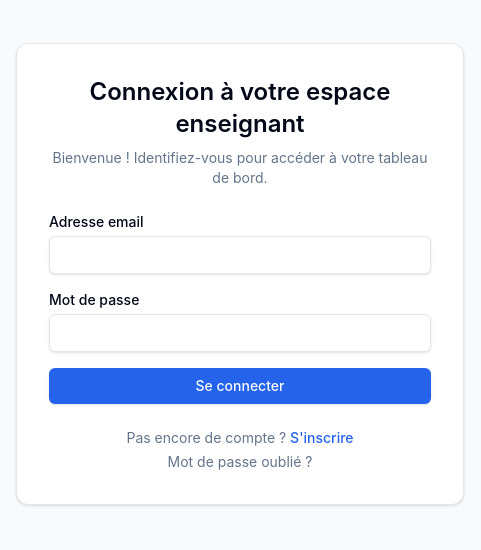
Test: LoginPage › affiche le message « credentials invalides » sur 401
The width and height of the screenshot is (481, 550).
Type "prof@example.fr" into the field labelled "Adresse email".
click(240, 255); type("prof@example.fr")  # box [49,236,431,274]
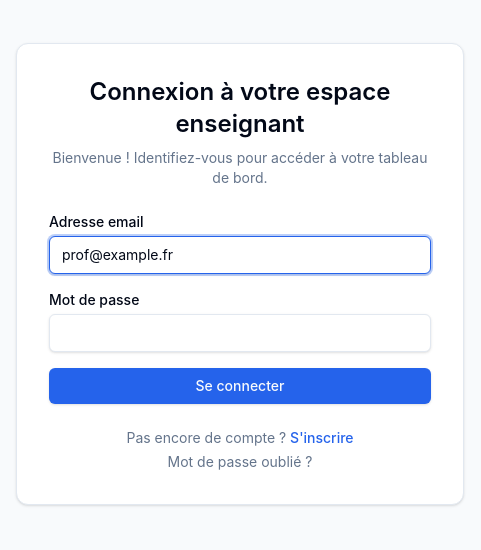
Type "mauvais-mdp" into the password field labelled "Mot de passe".
click(240, 333); type("mauvais-mdp")  # box [49,314,431,352]
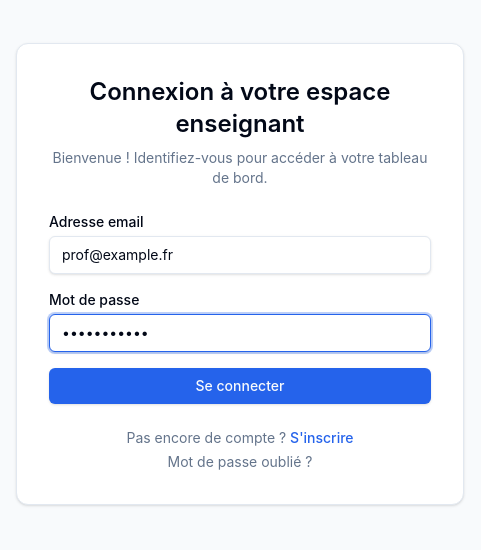
Click the button "Se connecter".
click(240, 386)  # box [49,368,431,404]
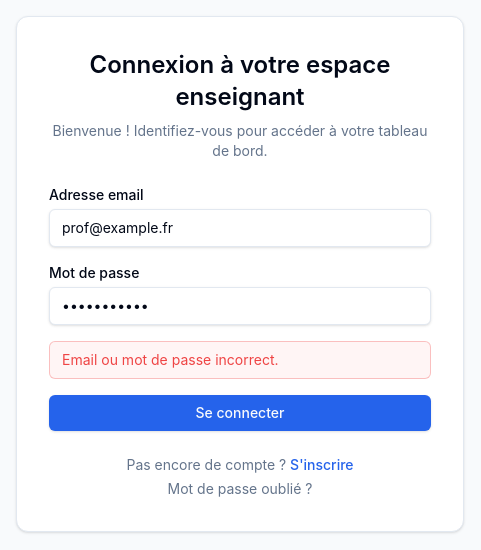
Now the text "Email ou mot de passe incorrect." is shown, box [49,341,431,379]
